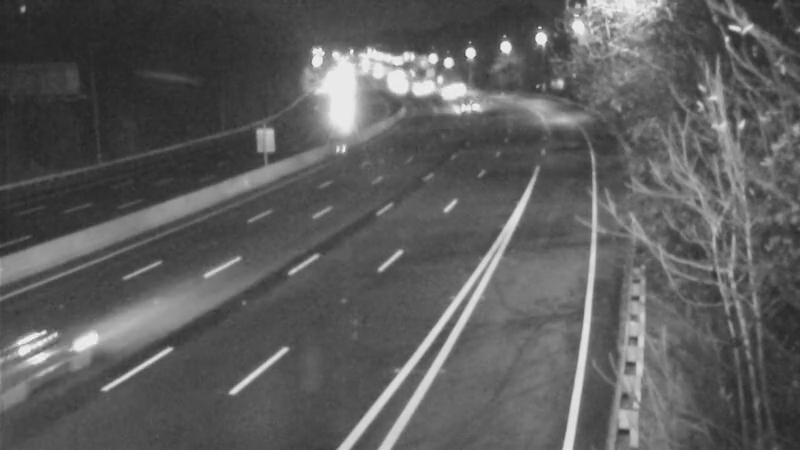vehicle: (1, 308, 102, 418), (427, 68, 477, 118), (440, 81, 490, 131), (315, 84, 365, 134)
